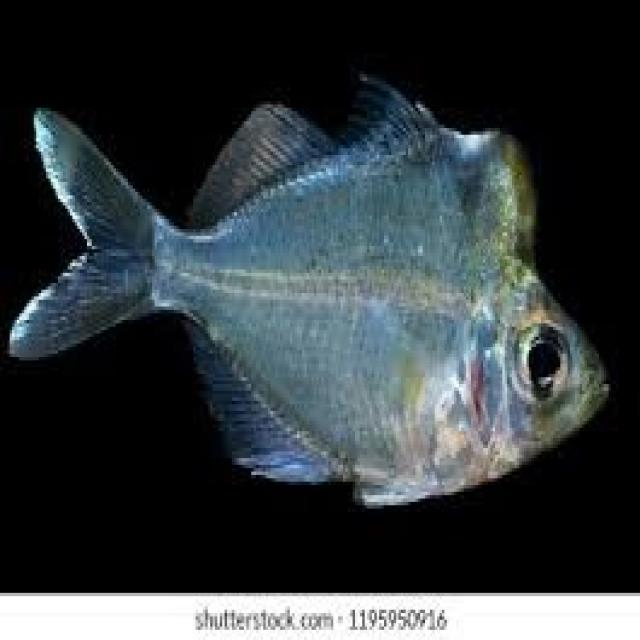Glass-Perchlet: (22, 44, 638, 537)
